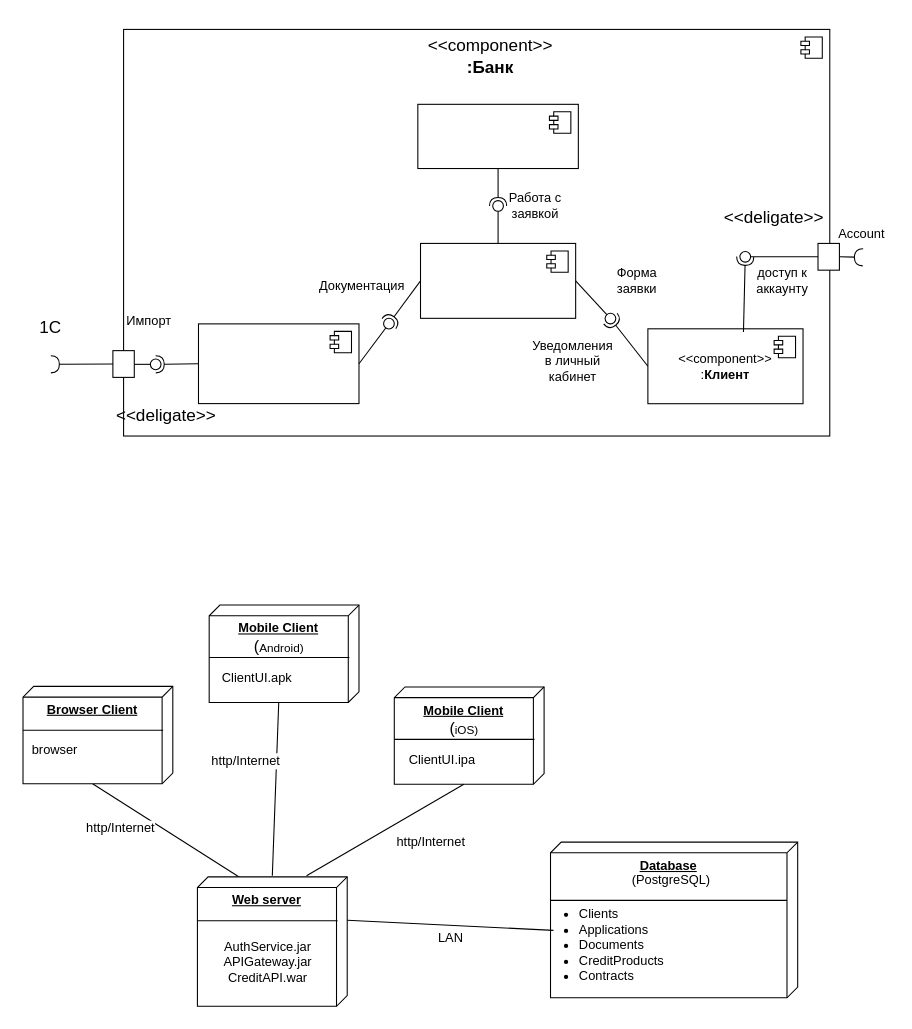
The diagram is 912 pixels wide and 1029 high, and some of its shapes have lost their labels. The centre of each missing label's shape, as x and y in pixels:
"<<component>> :Заявка" goes at (x=497, y=280).
"<<component>> :Интеграция" goes at (x=278, y=363).
"<<component>> :работник" goes at (x=497, y=136).
